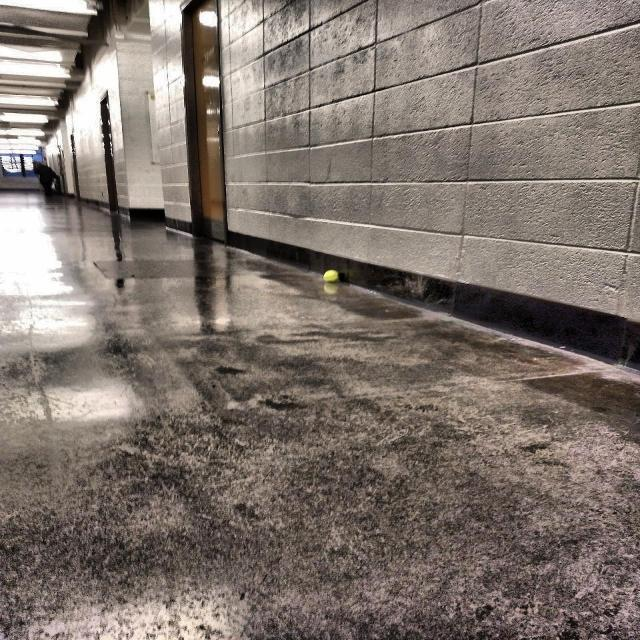tennis-ball: (317, 266, 345, 288)
